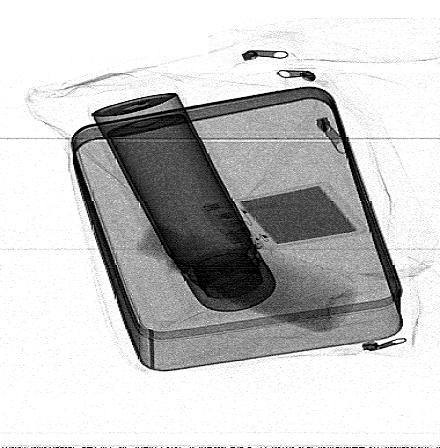Powerbank: (199, 182, 367, 253)
